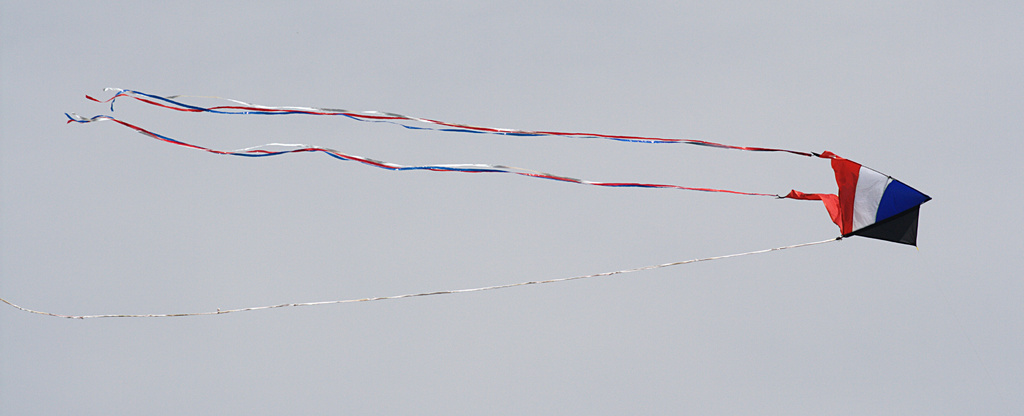kite: (48, 87, 940, 254)
